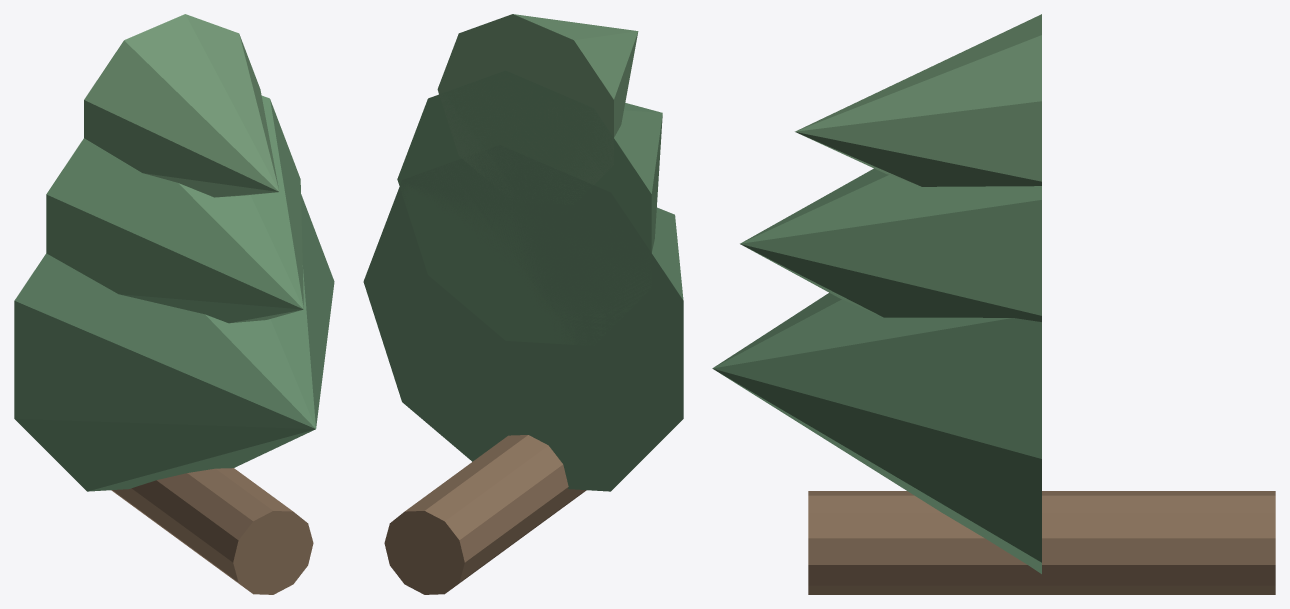
The model's file is timber_node.glb.
3 renders of one model, left to right at view 1: azimuth 30°, elevation 25°; view 2: azimuth 150°, elevation 25°; view 3: azimuth 270°, elevation 25°, orthographic. The views are drawn at different scales.
Parts seen in each view (by area): view 1: timber_node_01, timber_node_02, timber_node_03, timber_node_00; view 2: timber_node_01, timber_node_02, timber_node_03, timber_node_00; view 3: timber_node_01, timber_node_00, timber_node_02, timber_node_03.
Part boxes in pixels (bbox=[...]): timber_node_01: bbox=[14, 194, 334, 491]; timber_node_02: bbox=[46, 95, 303, 323]; timber_node_03: bbox=[84, 14, 279, 197]; timber_node_00: bbox=[111, 468, 313, 594]; timber_node_01: bbox=[363, 145, 683, 491]; timber_node_02: bbox=[397, 70, 662, 345]; timber_node_03: bbox=[437, 14, 638, 204]; timber_node_00: bbox=[384, 435, 586, 594]; timber_node_01: bbox=[712, 292, 1041, 573]; timber_node_00: bbox=[808, 491, 1275, 594]; timber_node_02: bbox=[740, 168, 1041, 321]; timber_node_03: bbox=[795, 14, 1041, 186].
Size of the model in its own units: 1.51 by 2.26 by 2.05.
